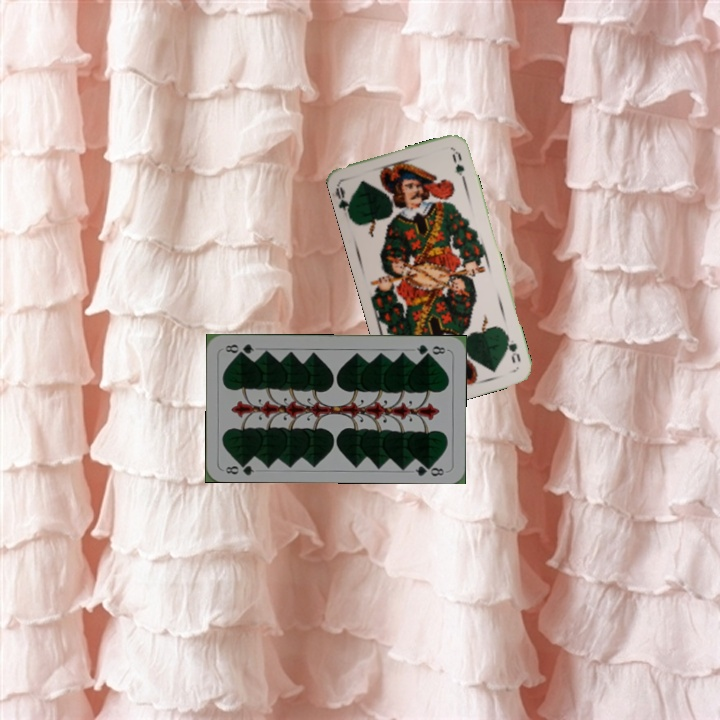G8: (221, 458, 257, 478), (413, 340, 450, 358)
GO: (332, 181, 355, 220), (501, 329, 523, 366)
